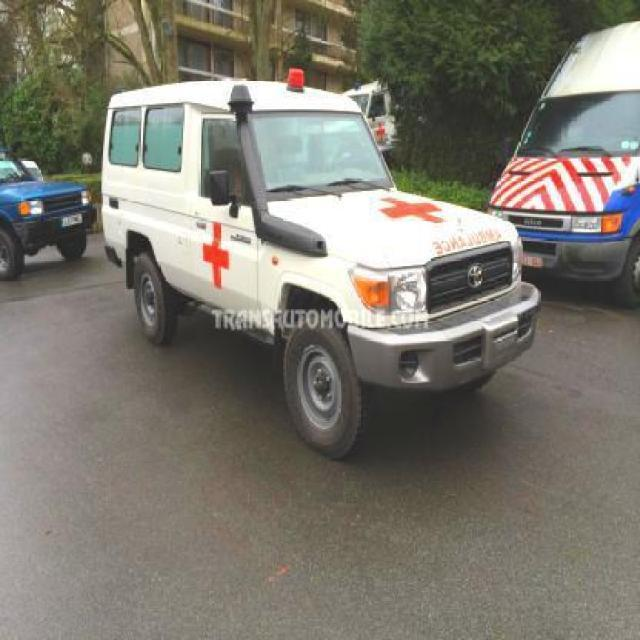emergency: (98, 68, 540, 460)
